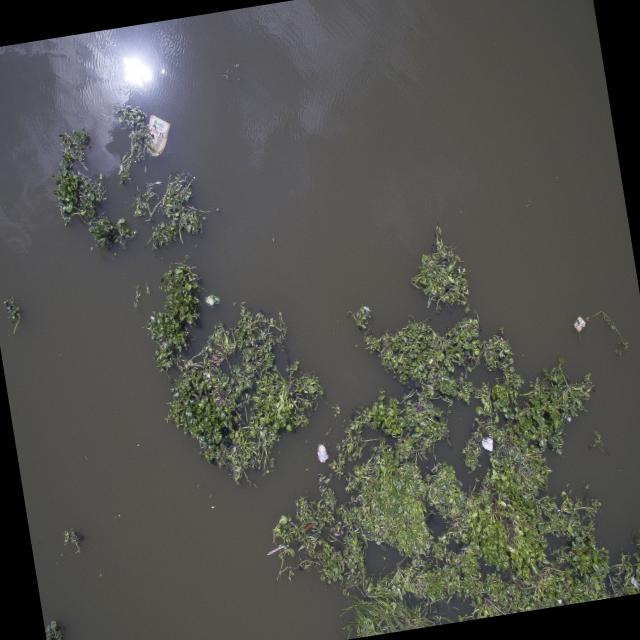Plastic: (141, 112, 175, 158), (314, 442, 332, 465), (571, 312, 588, 332), (205, 290, 220, 310), (480, 435, 496, 452), (362, 304, 372, 312)
